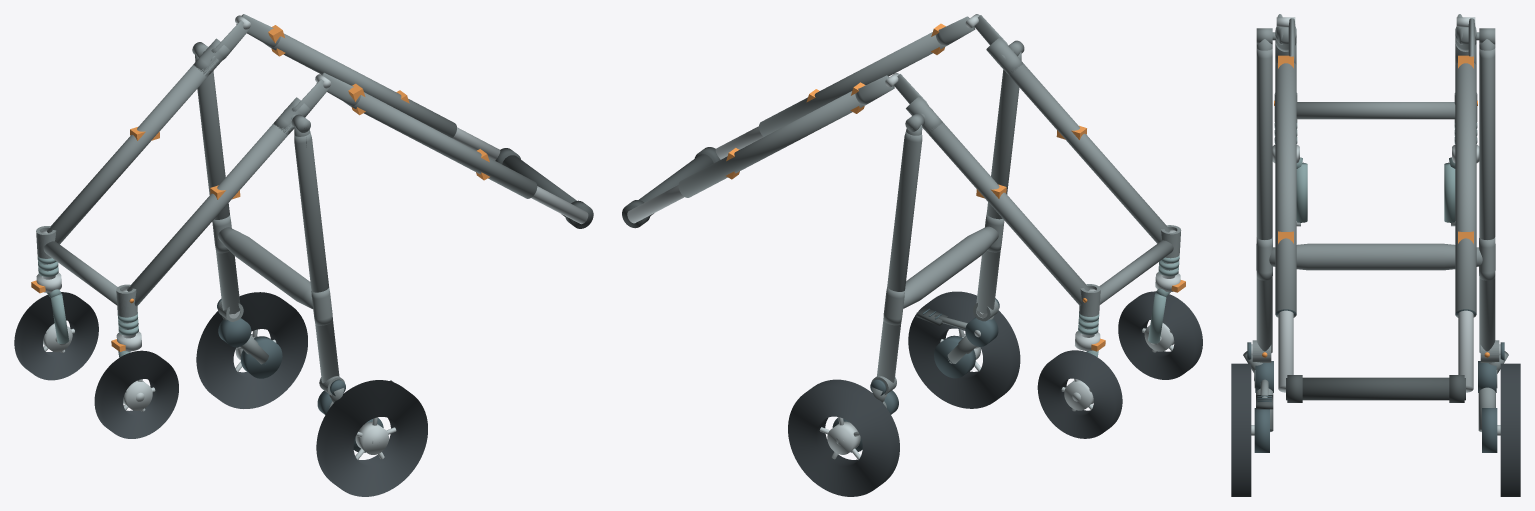
Rendered from w380_state2.glb.
3 renders of one model, left to right at view 1: azimuth 30°, elevation 25°; view 2: azimuth 150°, elevation 25°; view 3: azimuth 270°, elevation 25°, orthographic. The views are drawn at different scales.
Visible parts, largest first — view 1: RL_tire.012, RR_tire.012, FL_tire.012, FR_tire.012, main_lower_1.002, main_lower_-1.002, V46_rear_leg_-1.001, main_upper_-1.002, V46_rear_leg_1.001, main_upper_1.002, V46_rearbar.001, front_fixed_round_tube.009 (+7 smaller); view 2: RR_tire.012, RL_tire.012, FR_tire.012, FL_tire.012, main_lower_-1.002, main_lower_1.002, V46_rear_leg_1.001, main_upper_1.002, main_upper_-1.002, V46_rear_leg_-1.001, V46_rearbar.001, front_fixed_round_tube.009 (+8 smaller); view 3: main_upper_1.002, main_upper_-1.002, V46_rearbar.001, V46_rear_leg_1.001, V46_rear_leg_-1.001, round_handle.011, front_fixed_round_tube.009, RL_tire.012, RR_tire.012, handle_slider_1.011, handle_slider_-1.011, RR_brake_backplate.012 (+10 smaller).
Boxes of the visible parts, x1,y1,x2,y2 form: RL_tire.012: (316,380,427,496); RR_tire.012: (196,292,307,408); FL_tire.012: (94,350,178,438); FR_tire.012: (14,292,98,380); main_lower_1.002: (47,58,218,244); main_lower_-1.002: (127,123,292,306); V46_rear_leg_-1.001: (294,132,339,382); main_upper_-1.002: (351,92,537,198); V46_rear_leg_1.001: (197,71,240,314); main_upper_1.002: (271,33,456,137); V46_rearbar.001: (218,227,312,308); front_fixed_round_tube.009: (43,241,117,305); RR_tire.012: (788,379,899,496); RL_tire.012: (908,291,1020,408); FR_tire.012: (1037,350,1122,438); FL_tire.012: (1118,291,1202,379); main_lower_-1.002: (997,57,1170,243); main_lower_1.002: (923,122,1089,305); V46_rear_leg_1.001: (877,131,922,382); main_upper_1.002: (678,91,865,197); main_upper_-1.002: (759,32,945,136); V46_rear_leg_-1.001: (976,70,1019,313); V46_rearbar.001: (903,226,998,308); front_fixed_round_tube.009: (1099,240,1173,304); main_upper_1.002: (1455,63,1476,317); main_upper_-1.002: (1275,63,1296,317); V46_rearbar.001: (1269,243,1482,270); V46_rear_leg_1.001: (1479,48,1495,352); V46_rear_leg_-1.001: (1256,48,1272,352); round_handle.011: (1286,377,1465,400); front_fixed_round_tube.009: (1296,102,1455,119); RL_tire.012: (1231,363,1251,496); RR_tire.012: (1500,363,1520,496); handle_slider_1.011: (1458,310,1473,392); handle_slider_-1.011: (1278,310,1293,392); RR_brake_backplate.012: (1482,408,1497,452).
Size of the model in its own units: 0.9641 by 0.76 by 0.434.
